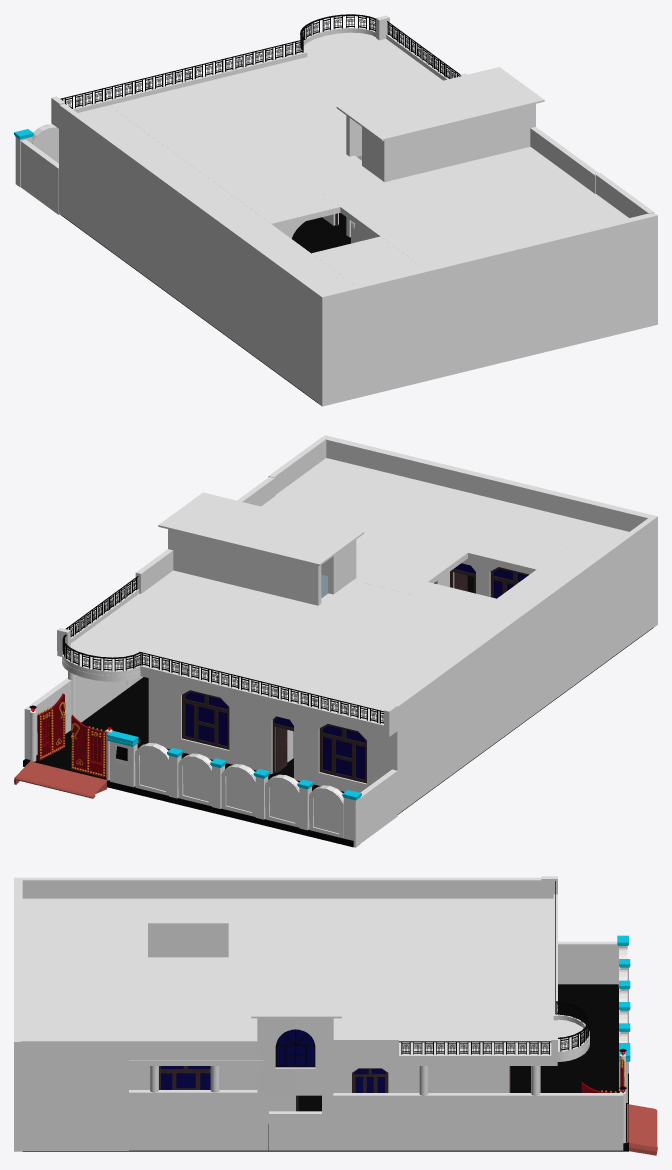
The model's file is home_unreal.glb.
3 renders of one model, top to bottom at view 1: azimuth 30°, elevation 25°; view 2: azimuth 150°, elevation 25°; view 3: azimuth 270°, elevation 25°, orthographic.
Visible parts, largest first — view 1: Cube14, Cube3, Cube40, Cube7, Cube36, Cube35, Cube47, Cube19, Cube37, Cube67, Cube41, Cube (+8 smaller); view 2: Cube3, Cube7, Cube40, untitled, Cube36, Cube35, Cube.004, Cube14, Cube47, Cube.005, Cube50, Cube13 (+18 smaller); view 3: Cube7, Cube40, Cube2, Cube35, Cube3, Cube23, Cube36, Cube4, Cube47, Cube50, Cube37, NEWWALL (+18 smaller).
Boxes of the visible parts, bbox=[...] form: Cube14: bbox=[318, 213, 657, 406]; Cube3: bbox=[59, 104, 323, 404]; Cube40: bbox=[323, 146, 628, 267]; Cube7: bbox=[179, 38, 442, 169]; Cube36: bbox=[109, 88, 340, 227]; Cube35: bbox=[51, 105, 354, 319]; Cube47: bbox=[336, 67, 544, 141]; Cube19: bbox=[381, 114, 495, 181]; Cube37: bbox=[311, 236, 423, 284]; Cube67: bbox=[20, 139, 60, 214]; Cube41: bbox=[290, 155, 380, 194]; Cube: bbox=[60, 213, 350, 402]; Cube3: bbox=[391, 517, 656, 813]; Cube7: bbox=[57, 570, 376, 706]; Cube40: bbox=[261, 458, 529, 594]; untitled: bbox=[107, 731, 343, 838]; Cube36: bbox=[265, 582, 496, 723]; Cube35: bbox=[334, 524, 655, 736]; Cube.004: bbox=[148, 678, 266, 770]; Cube14: bbox=[323, 435, 657, 627]; Cube47: bbox=[158, 492, 364, 565]; Cube.005: bbox=[294, 713, 391, 792]; Cube50: bbox=[23, 677, 353, 847]; Cube13: bbox=[202, 538, 321, 605]; Cube7: bbox=[331, 957, 557, 1065]; Cube40: bbox=[22, 957, 263, 1065]; Cube2: bbox=[322, 1093, 623, 1150]; Cube35: bbox=[22, 898, 553, 928]; Cube3: bbox=[17, 877, 541, 957]; Cube23: bbox=[21, 1038, 128, 1150]; Cube36: bbox=[228, 923, 553, 957]; Cube4: bbox=[129, 1090, 268, 1150]; Cube47: bbox=[251, 937, 341, 1018]; Cube50: bbox=[22, 984, 628, 1151]; Cube37: bbox=[22, 923, 147, 957]; NEWWALL: bbox=[258, 1018, 332, 1095].
Size of the model in its own units: 15.6 by 6.27 by 25.3.
22 materials, 2 textured.
